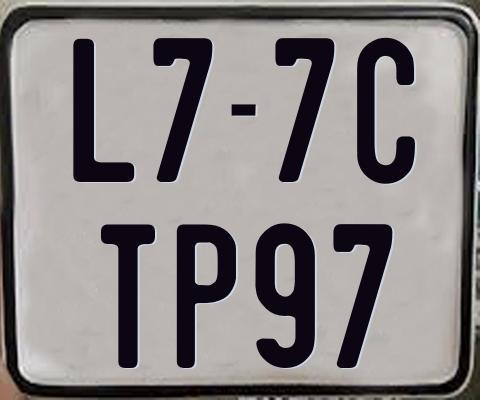7: (273, 37, 334, 186), (153, 36, 214, 183), (332, 223, 393, 369)
9: (254, 223, 320, 370)
C: (357, 36, 416, 183)
L: (70, 36, 135, 179)
P: (175, 223, 239, 369)
T: (98, 223, 152, 369)
